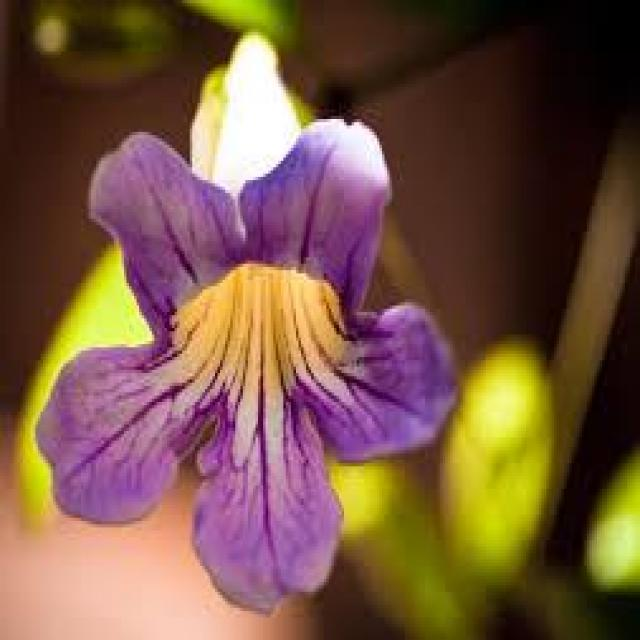organic waste: (44, 126, 439, 604)
